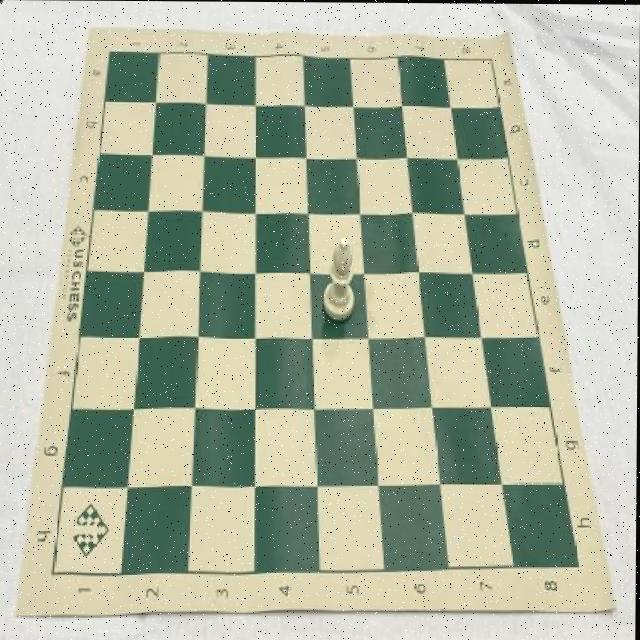black-rook: (323, 236, 356, 322)
